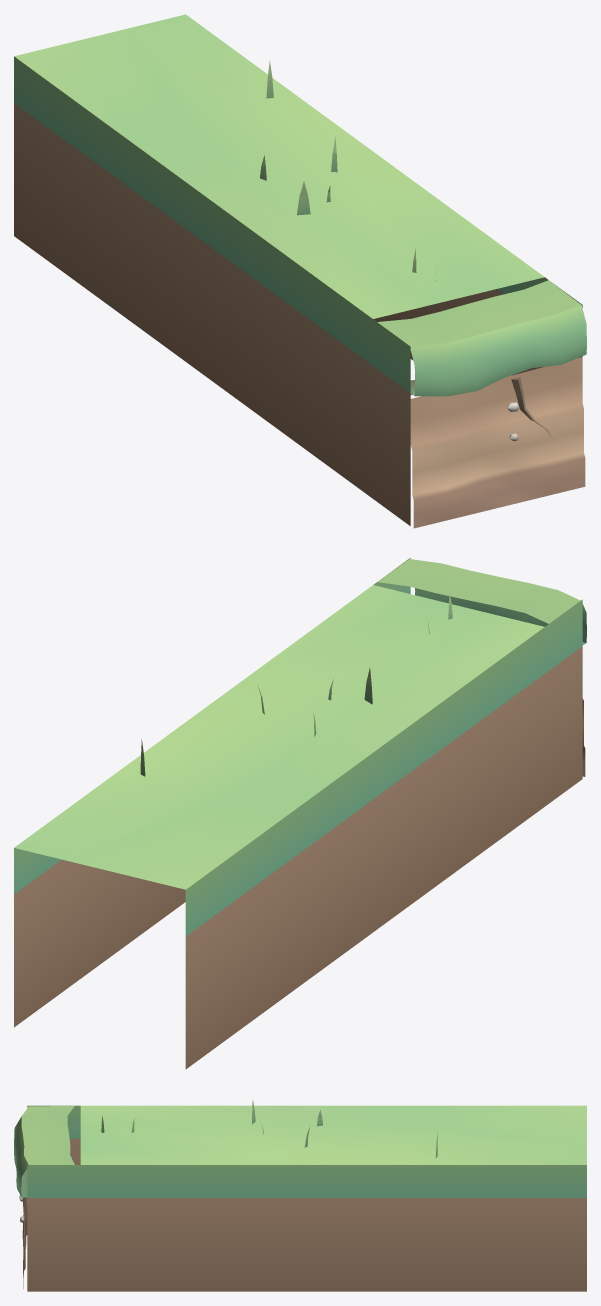
Rendered from groundlite_grass_0.glb.
3 views of the same model, one above another, from view 1: azimuth 30°, elevation 25°; view 2: azimuth 150°, elevation 25°; view 3: azimuth 270°, elevation 25° (orthographic). The views are drawn at different scales.
Visible parts, largest first — view 1: groundlite_grass_0; view 2: groundlite_grass_0; view 3: groundlite_grass_0.
Boxes of the visible parts, x1,y1,x2,y2 form: groundlite_grass_0: [14, 14, 586, 528]; groundlite_grass_0: [14, 558, 586, 1069]; groundlite_grass_0: [14, 1099, 586, 1291].
Size of the model in its own units: 1 by 1.21 by 4.1.
